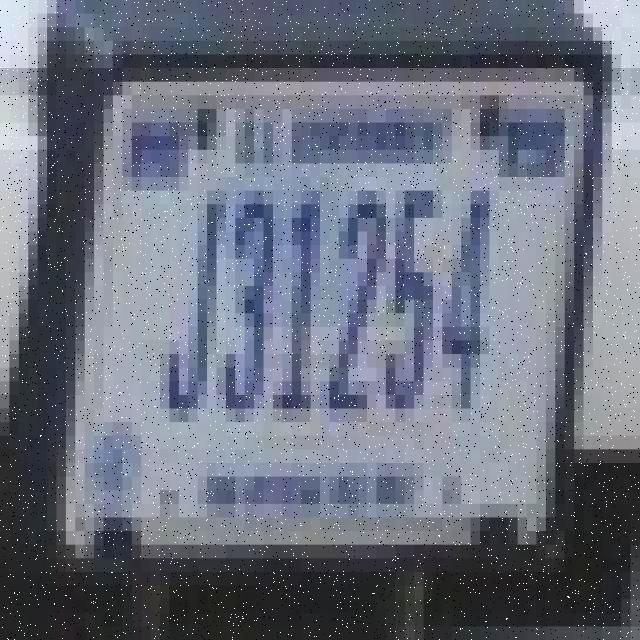LicensePlate: (30, 0, 602, 610)
